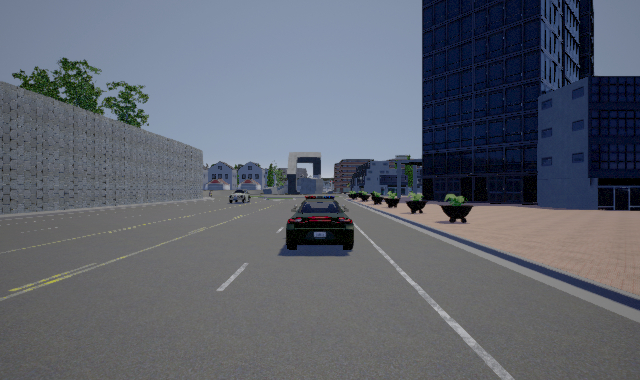vehicle: (286, 196, 354, 250), (226, 189, 250, 204)
